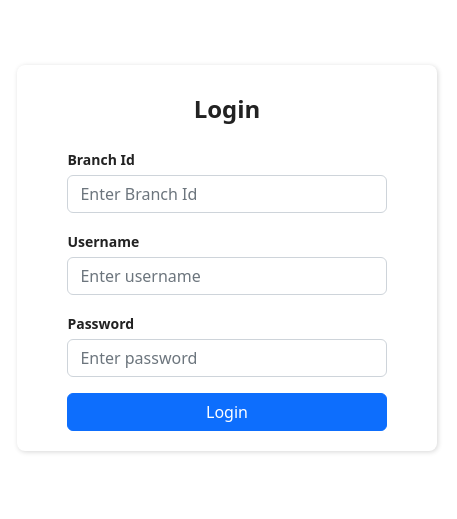
Test case: Should show validation messages for each login form input
Click the button with test id "test-login-btn": click(227, 412) [67,393,387,431]
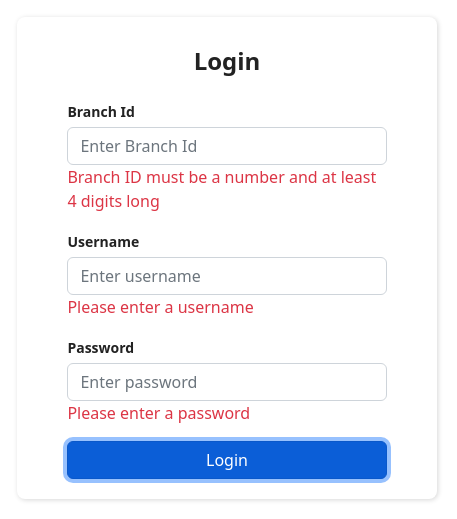
Check: the text "Branch ID must be a number and at least 4 digits long" is shown, box [67,165,387,213]
Check: the text "Please enter a username" is shown, box [67,296,254,318]
Check: the text "Please enter a password" is shown, box [67,402,250,424]
